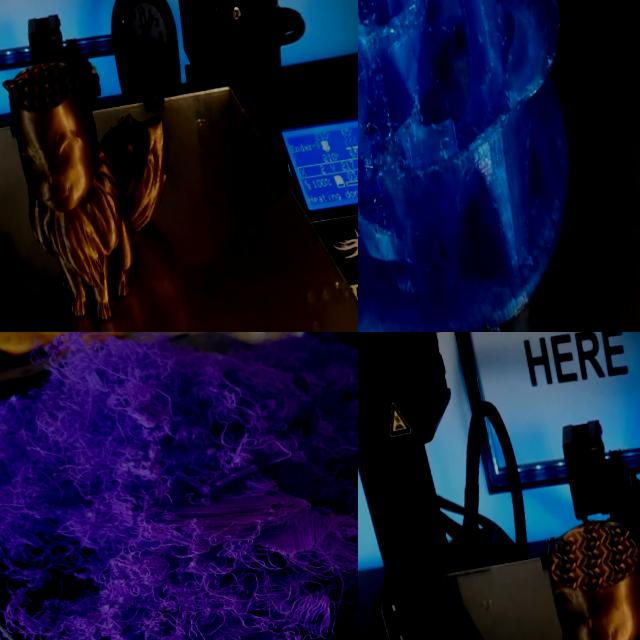spaghetti: (0, 332, 358, 640), (358, 0, 499, 332), (467, 306, 546, 332)
